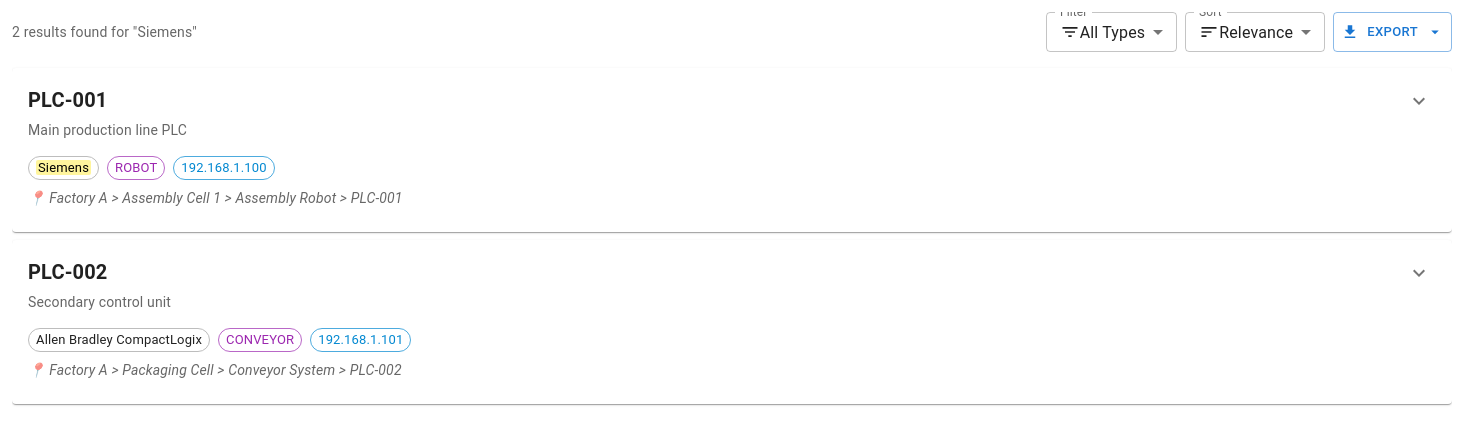
Scenario: SearchResults › export functionality › should open export menu when export button is clicked
The width and height of the screenshot is (1464, 423).
Click the button "Export" at x=1393, y=32, box [1333,12,1452,52]
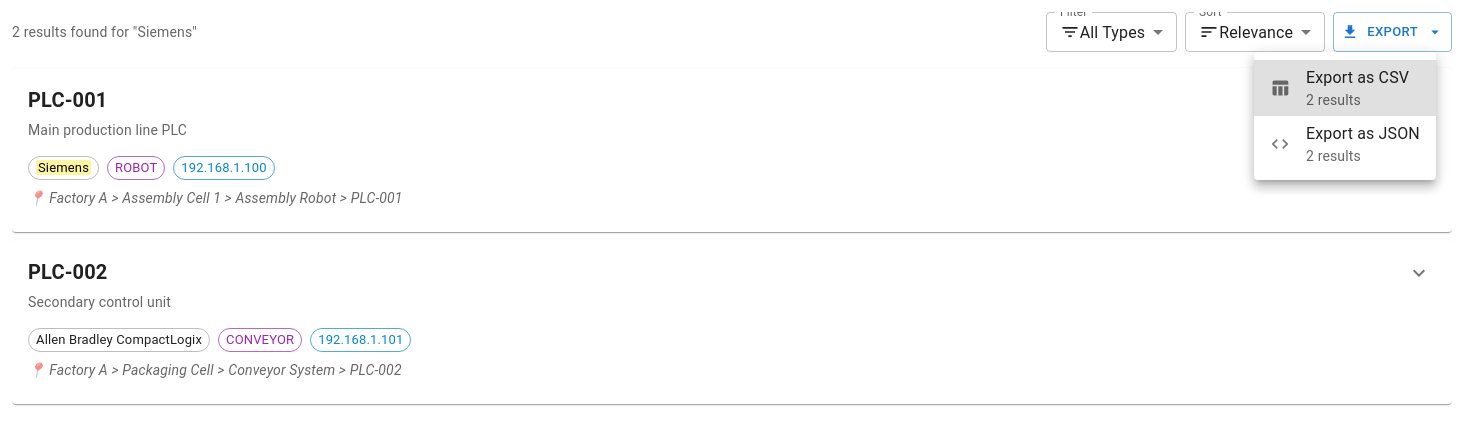
Result: the text "Export as CSV" is shown at [1306,66,1420,90]
Result: the text "Export as JSON" is shown at [1306,122,1420,146]
